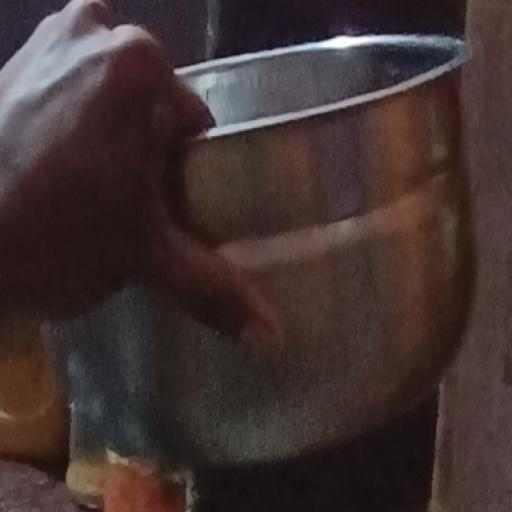vessel: (52, 35, 473, 465)
